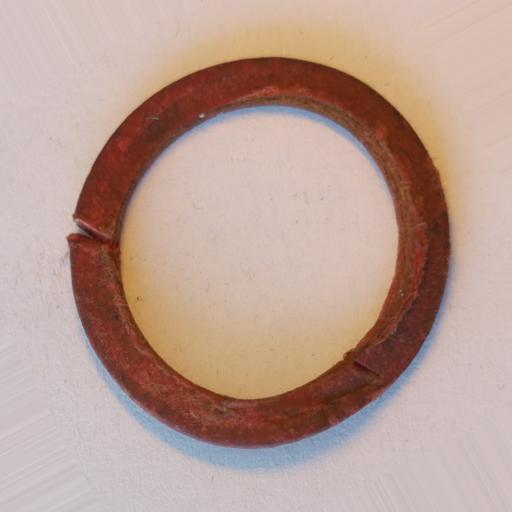defect: (68, 215, 119, 252), (344, 352, 381, 380)
